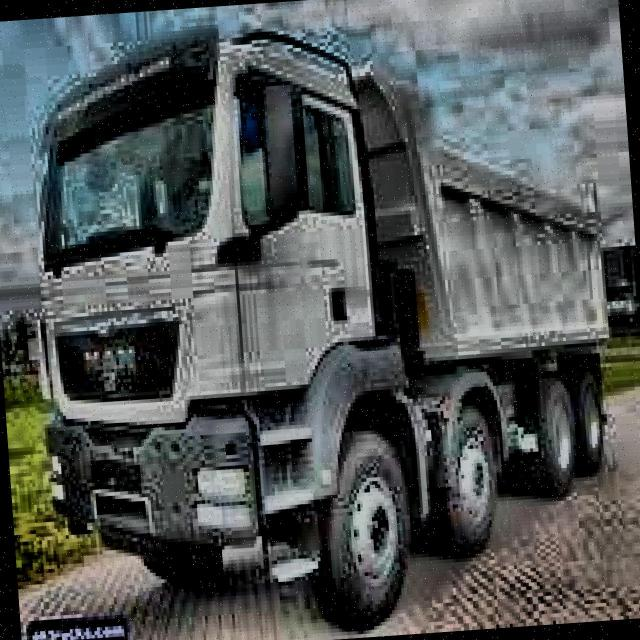dump_truck: (11, 0, 626, 640)
